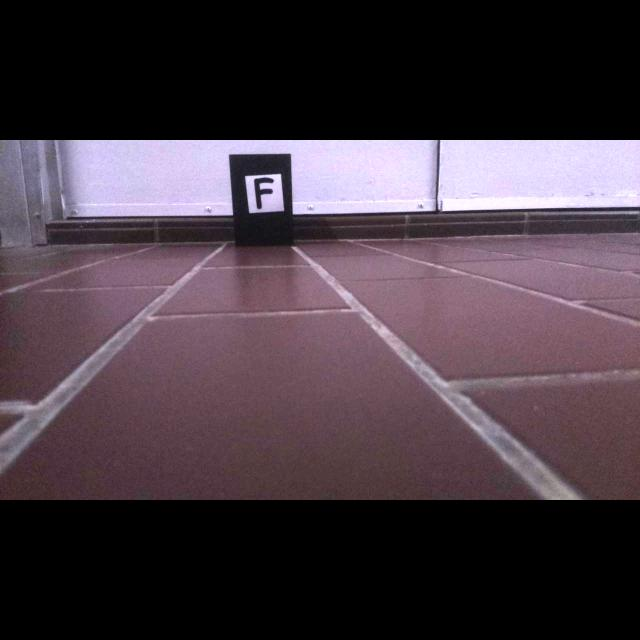F: (254, 177, 274, 210)
